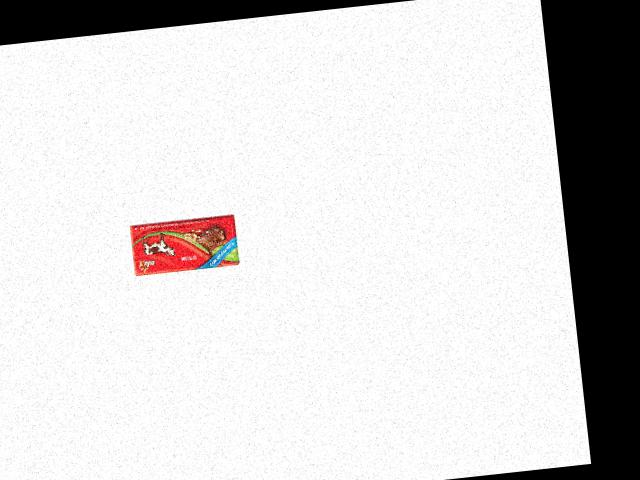chocolate: (125, 215, 238, 277)
